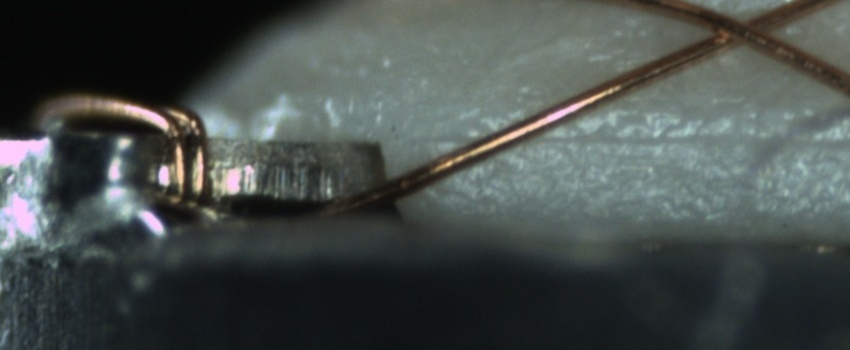CL: (695, 4, 792, 54)
DL: (434, 106, 849, 168)
TE: (30, 87, 214, 206)
